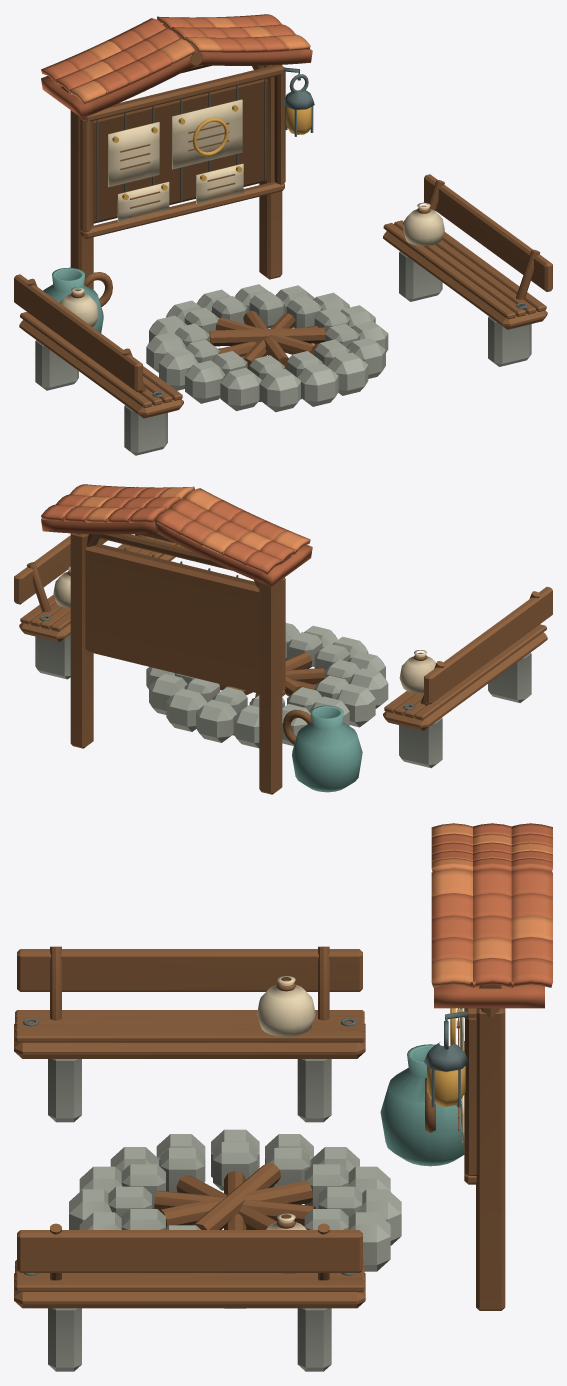
The model's file is village-assembly.glb.
3 views of the same model, one above another, from view 1: azimuth 30°, elevation 25°; view 2: azimuth 150°, elevation 25°; view 3: azimuth 270°, elevation 25° (orthographic). The views are drawn at different scales.
Parts seen in each view (by area): view 1: HERO_assembly_batch_timber, HERO_assembly_batch_stone.001, HERO_assembly_batch_tile, HERO_assembly_batch_plaster, HERO_assembly_batch_tileLight, HERO_assembly_batch_iron, HERO_assembly_batch_brass, HERO_assembly_batch_canvas; view 2: HERO_assembly_batch_timber, HERO_assembly_batch_stone.001, HERO_assembly_batch_tile, HERO_assembly_batch_canvas, HERO_assembly_batch_tileLight, HERO_assembly_batch_plaster; view 3: HERO_assembly_batch_timber, HERO_assembly_batch_stone.001, HERO_assembly_batch_tile, HERO_assembly_batch_canvas, HERO_assembly_batch_tileLight, HERO_assembly_batch_plaster, HERO_assembly_batch_iron, HERO_assembly_batch_brass.
Part boxes in pixels (left/top/right/bottom): HERO_assembly_batch_timber: left=14, top=26, right=552, bottom=418; HERO_assembly_batch_stone.001: left=35, top=251, right=531, bottom=455; HERO_assembly_batch_tile: left=41, top=14, right=318, bottom=357; HERO_assembly_batch_plaster: left=60, top=99, right=444, bottom=326; HERO_assembly_batch_tileLight: left=68, top=17, right=310, bottom=104; HERO_assembly_batch_iron: left=96, top=67, right=527, bottom=401; HERO_assembly_batch_brass: left=112, top=105, right=311, bottom=199; HERO_assembly_batch_canvas: left=43, top=267, right=103, bottom=332; HERO_assembly_batch_timber: left=14, top=487, right=552, bottom=794; HERO_assembly_batch_stone.001: left=35, top=623, right=531, bottom=768; HERO_assembly_batch_tile: left=41, top=486, right=318, bottom=700; HERO_assembly_batch_canvas: left=292, top=705, right=362, bottom=792; HERO_assembly_batch_tileLight: left=69, top=484, right=310, bottom=555; HERO_assembly_batch_plaster: left=53, top=566, right=436, bottom=693; HERO_assembly_batch_timber: left=14, top=946, right=505, bottom=1310; HERO_assembly_batch_stone.001: left=48, top=1059, right=401, bottom=1371; HERO_assembly_batch_tile: left=304, top=823, right=552, bottom=1226; HERO_assembly_batch_canvas: left=380, top=1044, right=464, bottom=1166; HERO_assembly_batch_tileLight: left=431, top=823, right=552, bottom=987; HERO_assembly_batch_plaster: left=257, top=975, right=464, bottom=1274; HERO_assembly_batch_iron: left=23, top=1011, right=468, bottom=1275; HERO_assembly_batch_brass: left=427, top=1008, right=465, bottom=1106.
Bounding box in the file's own units: 5.98 × 3.66 × 4.75.
